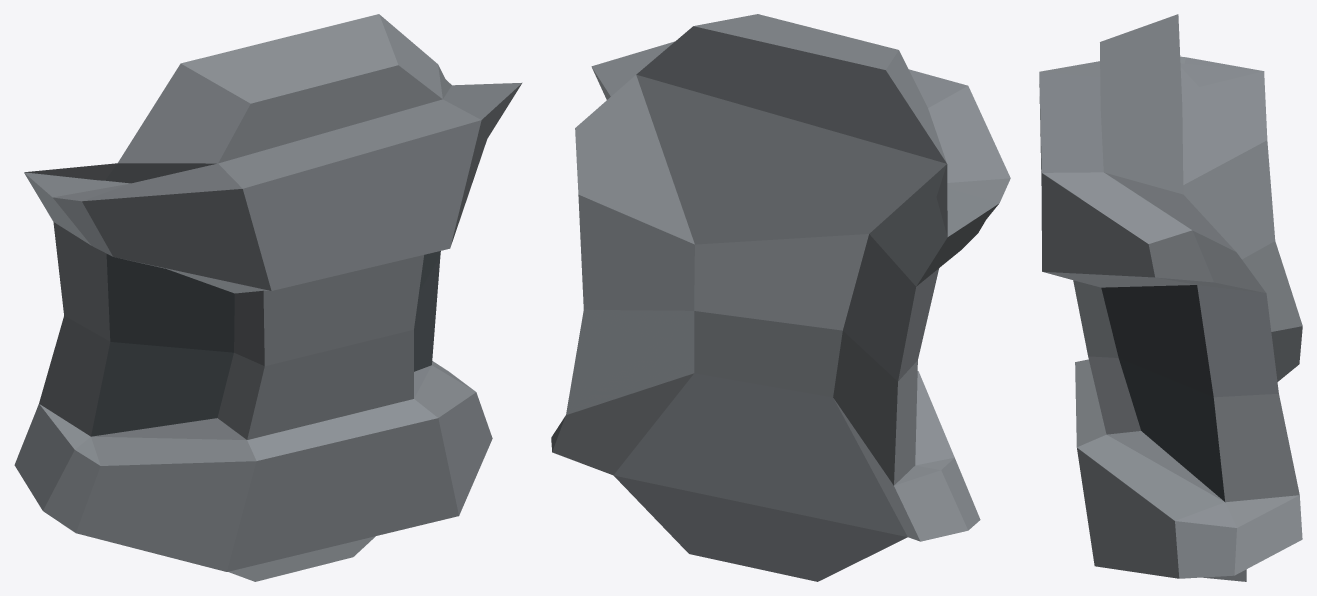
Rendered from Chr_KneeAttachRight_01_Static.fbx.
3 renders of one model, left to right at view 1: azimuth 30°, elevation 25°; view 2: azimuth 150°, elevation 25°; view 3: azimuth 270°, elevation 25°, orthographic. The views are drawn at different scales.
Parts seen in each view (by area): view 1: Chr_KneeAttachRight_01_Static; view 2: Chr_KneeAttachRight_01_Static; view 3: Chr_KneeAttachRight_01_Static.
Boxes of the visible parts, bbox=[...] form: Chr_KneeAttachRight_01_Static: bbox=[14, 14, 522, 581]; Chr_KneeAttachRight_01_Static: bbox=[551, 14, 1010, 581]; Chr_KneeAttachRight_01_Static: bbox=[1039, 14, 1302, 581].
Bounding box in the file's own units: 0.1555 × 0.1731 × 0.0844.
